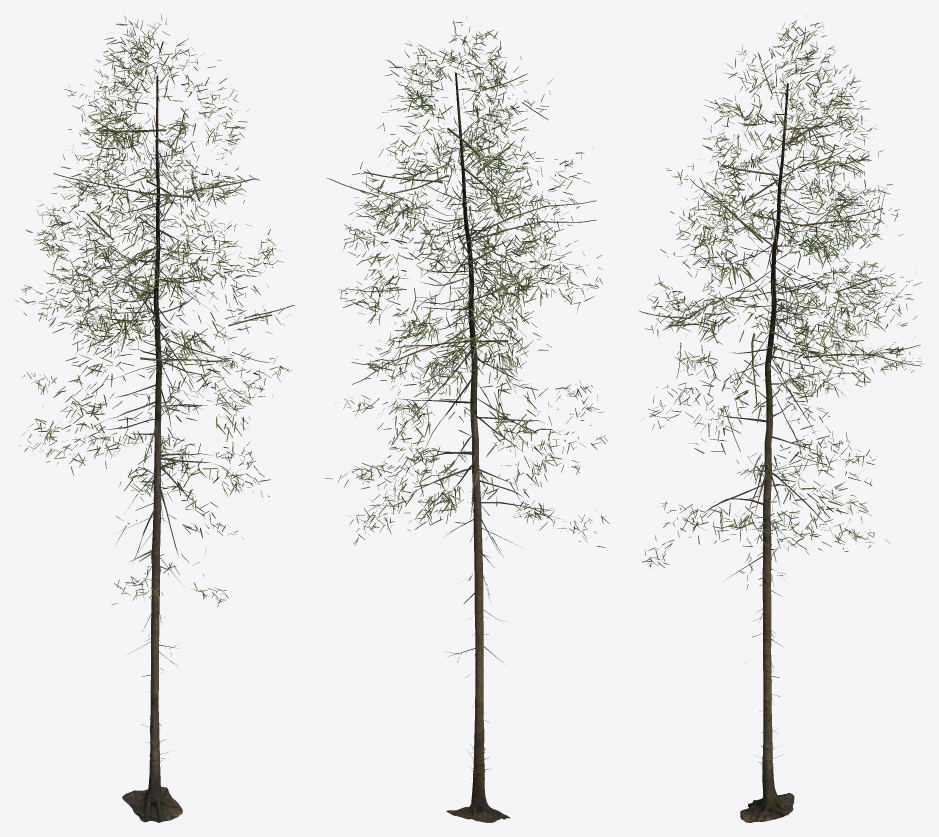
The model's file is fir_tree_01_far.glb.
3 views of the same model, side by side, from view 1: azimuth 30°, elevation 25°; view 2: azimuth 150°, elevation 25°; view 3: azimuth 270°, elevation 25° (orthographic). The views are drawn at different scales.
Parts seen in each view (by area): view 1: fir_tree_01_a_LOD0; view 2: fir_tree_01_a_LOD0; view 3: fir_tree_01_a_LOD0.
Boxes of the visible parts, x1,y1,x2,y2 form: fir_tree_01_a_LOD0: [14, 14, 294, 822]; fir_tree_01_a_LOD0: [324, 15, 609, 822]; fir_tree_01_a_LOD0: [639, 20, 924, 822].
Size of the model in its own units: 6.21 by 18.93 by 6.18.
Materials: 4 (4 with a texture image).
